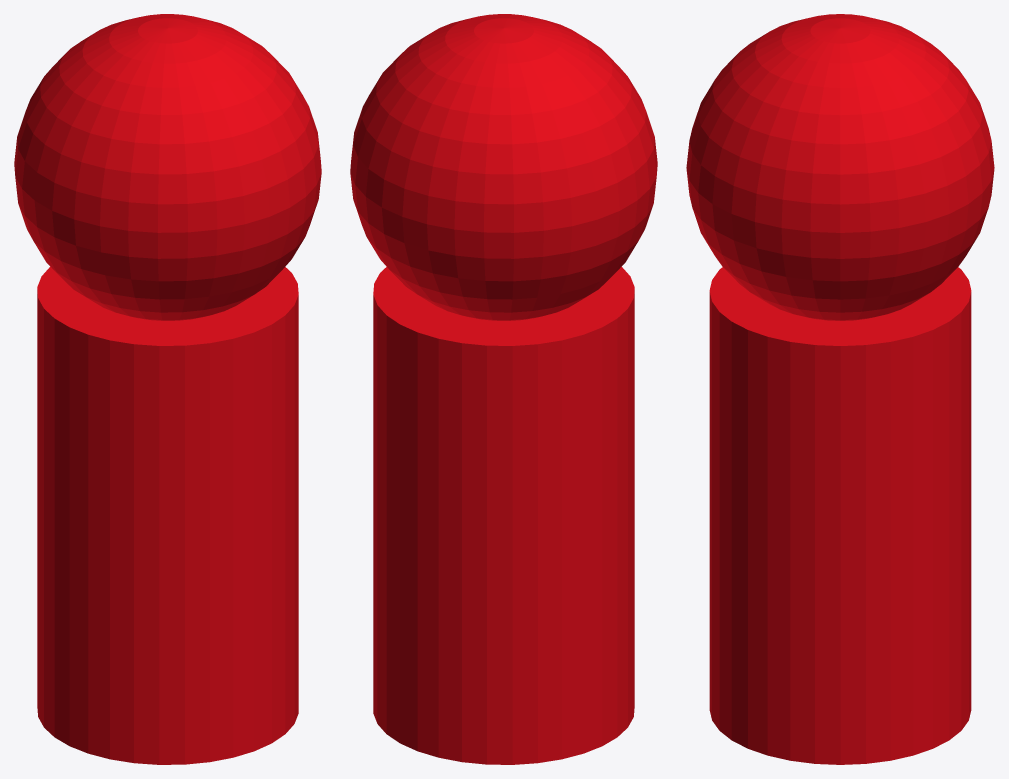
Rendered from redPawn.dae.
The picture shows the model from 3 angles, left to right: view 1: azimuth 30°, elevation 25°; view 2: azimuth 150°, elevation 25°; view 3: azimuth 270°, elevation 25°; orthographic projection.
Parts seen in each view (by area): view 1: Sphere; view 2: Sphere; view 3: Sphere.
Part boxes in pixels (x1,y1,x2,y2): Sphere: (14,14,321,764); Sphere: (350,14,657,764); Sphere: (686,14,994,764).
Bounding box in the file's own units: 2 × 2 × 4.88.
